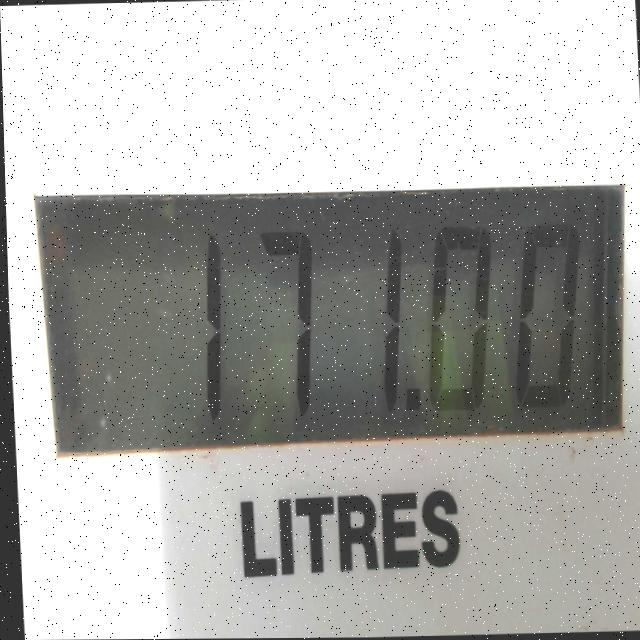.: (395, 364, 430, 440)
0: (499, 206, 590, 431), (417, 213, 497, 425)
1: (330, 211, 415, 430), (179, 228, 259, 460)
7: (249, 213, 338, 430)
